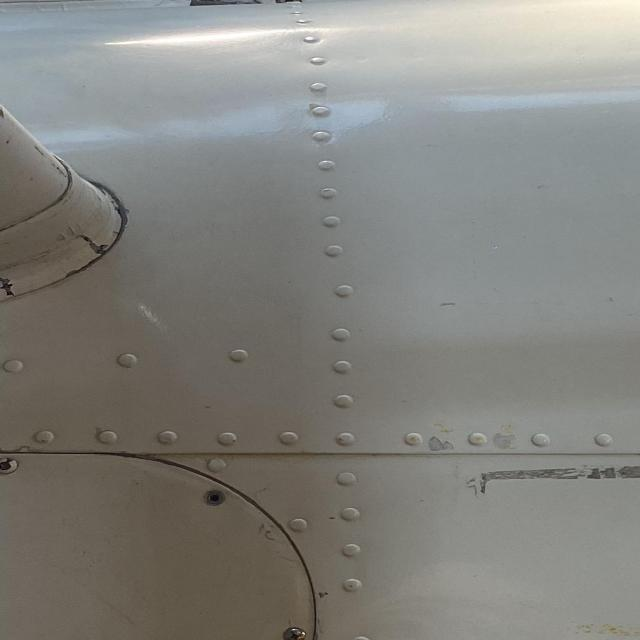Missing-head: (202, 489, 228, 507)
Paint-off: (490, 430, 512, 450), (425, 436, 449, 452)
